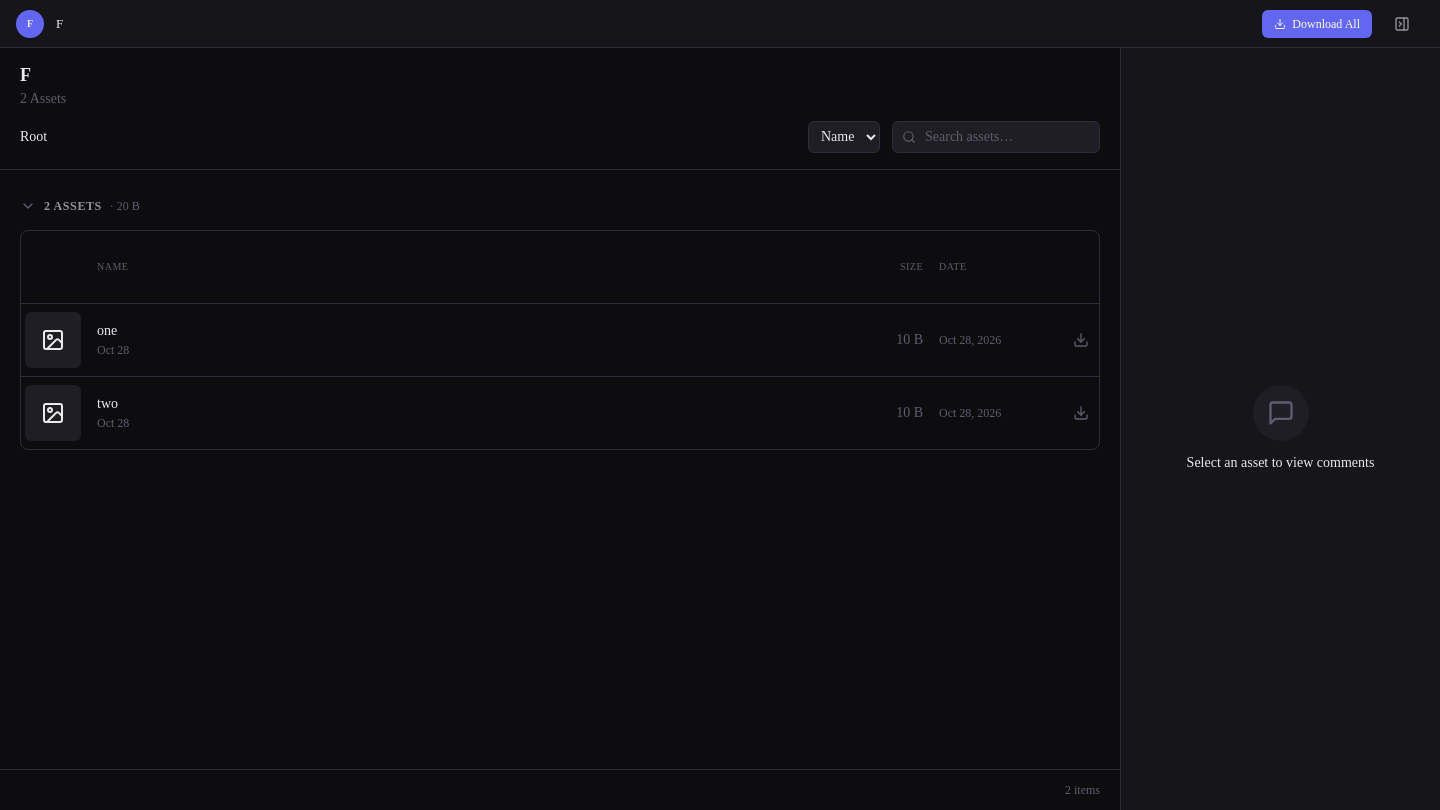
share viewer "Download All" › opens the batch dialog instead of firing one download per file
Expected: the text "one" is shown, [97, 323, 117, 338]
Click the button "Download All" at [1317, 24], box [1262, 10, 1372, 38]
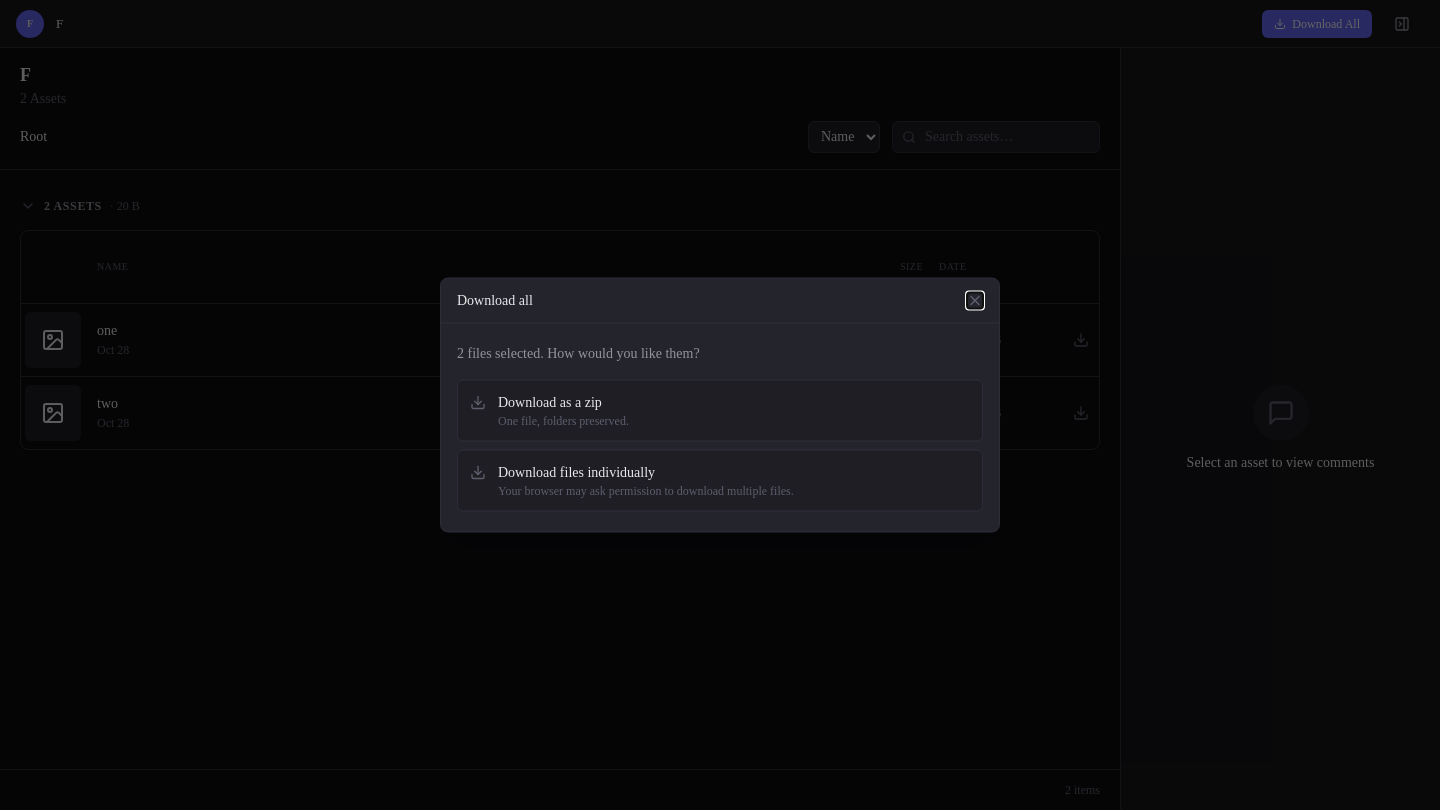
Expected: the dialog is shown, [440, 278, 1000, 532]
